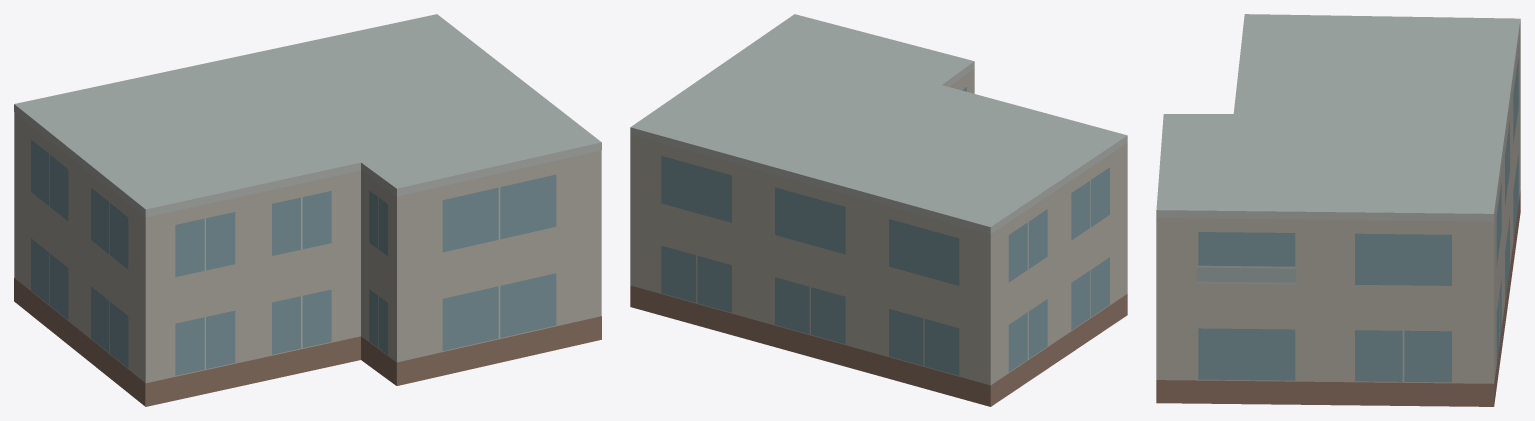
The model's file is survey-upis-32650010.glb.
The picture shows the model from 3 angles, left to right: view 1: azimuth 30°, elevation 25°; view 2: azimuth 150°, elevation 25°; view 3: azimuth 270°, elevation 25°; orthographic projection. The views are drawn at different scales.
Visible parts, largest first — view 1: survey-upis-32650010.tmp; view 2: survey-upis-32650010.tmp; view 3: survey-upis-32650010.tmp.
Part boxes in pixels (x1,y1,x2,y2): survey-upis-32650010.tmp: [14, 14, 601, 406]; survey-upis-32650010.tmp: [630, 14, 1127, 406]; survey-upis-32650010.tmp: [1156, 14, 1520, 406].
Size of the model in its own units: 13.56 by 6.1 by 10.44.
